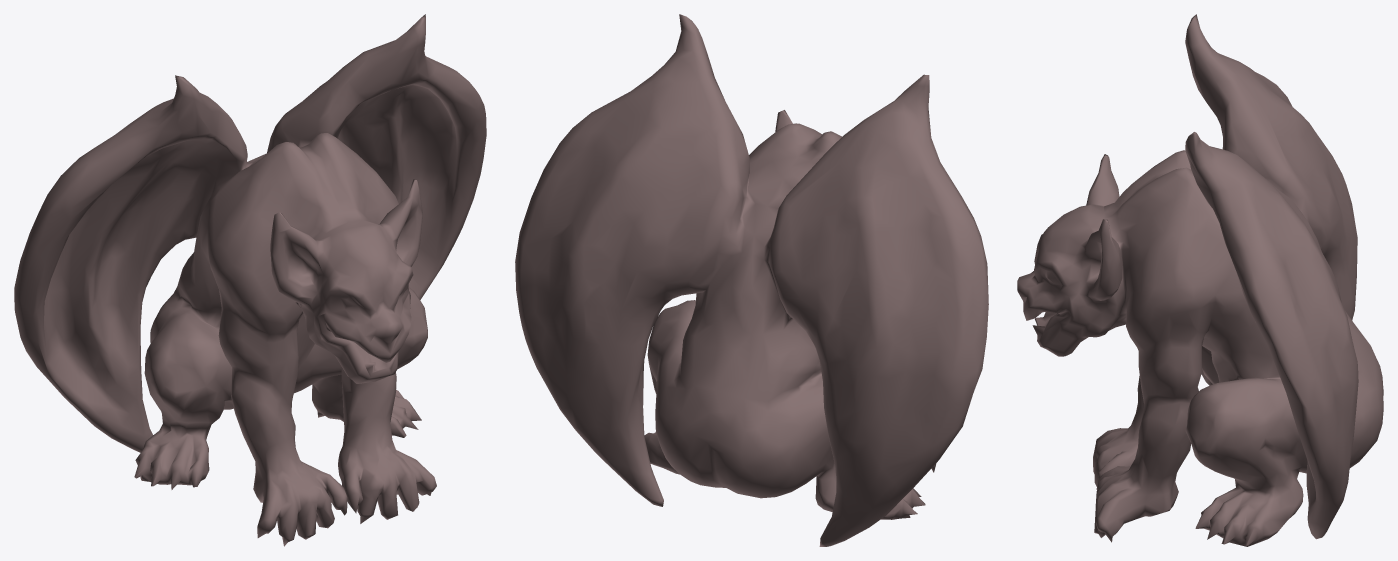
Rendered from GargoyleWithoutPedastal.fbx.
3 renders of one model, left to right at view 1: azimuth 30°, elevation 25°; view 2: azimuth 150°, elevation 25°; view 3: azimuth 270°, elevation 25°, orthographic. The views are drawn at different scales.
Visible parts, largest first — view 1: SM_gargoyle; view 2: SM_gargoyle; view 3: SM_gargoyle.
Boxes of the visible parts, x1,y1,x2,y2 form: SM_gargoyle: (14, 14, 486, 546); SM_gargoyle: (515, 14, 988, 546); SM_gargoyle: (1017, 14, 1383, 546).
Bounding box in the file's own units: 109 × 101 × 76.48.
